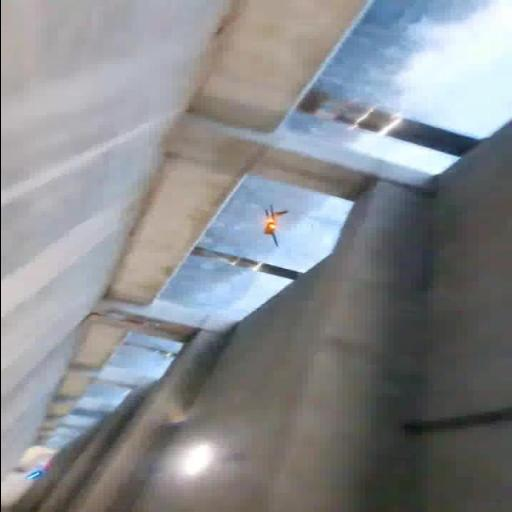uav: (253, 202, 289, 250)
